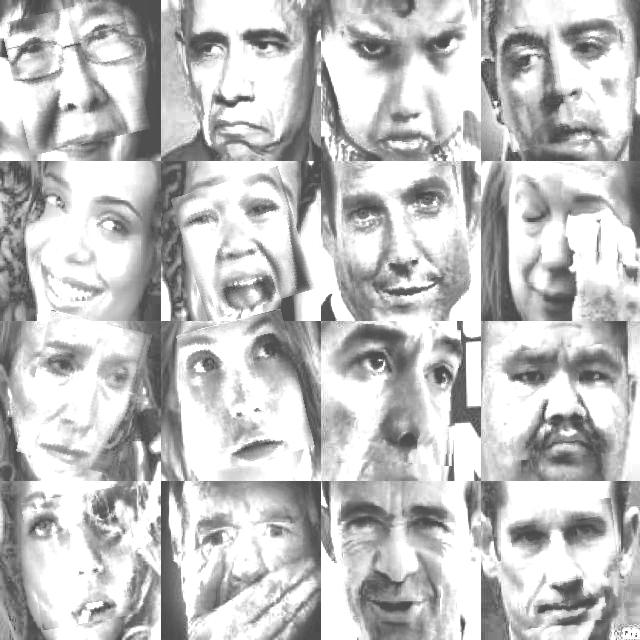angry: (336, 15, 464, 153), (197, 19, 302, 155), (508, 345, 615, 458)
fear: (179, 173, 307, 315), (190, 487, 303, 612)
happy: (7, 2, 144, 150), (344, 168, 469, 307), (348, 506, 468, 632), (32, 186, 148, 314)
neutral: (184, 315, 308, 467), (499, 19, 630, 149), (343, 325, 459, 465), (26, 489, 140, 626), (512, 501, 622, 627)
sad: (24, 315, 144, 471), (519, 178, 623, 298)
